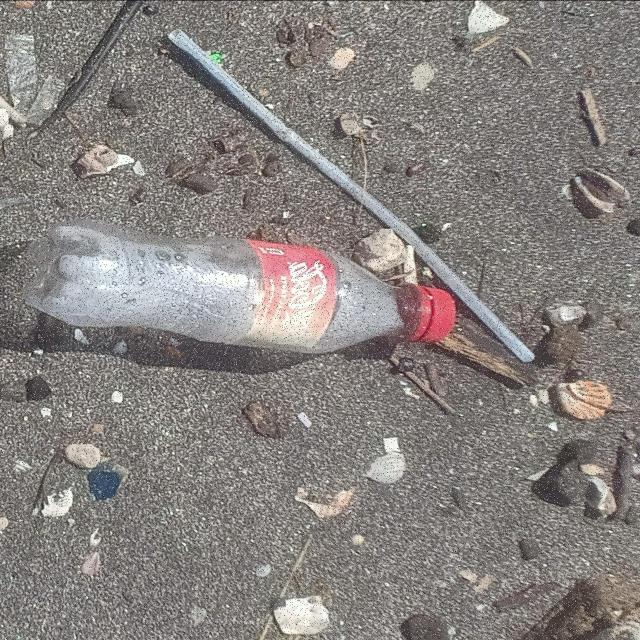plastic_waste: (171, 29, 538, 363), (27, 216, 458, 357)
